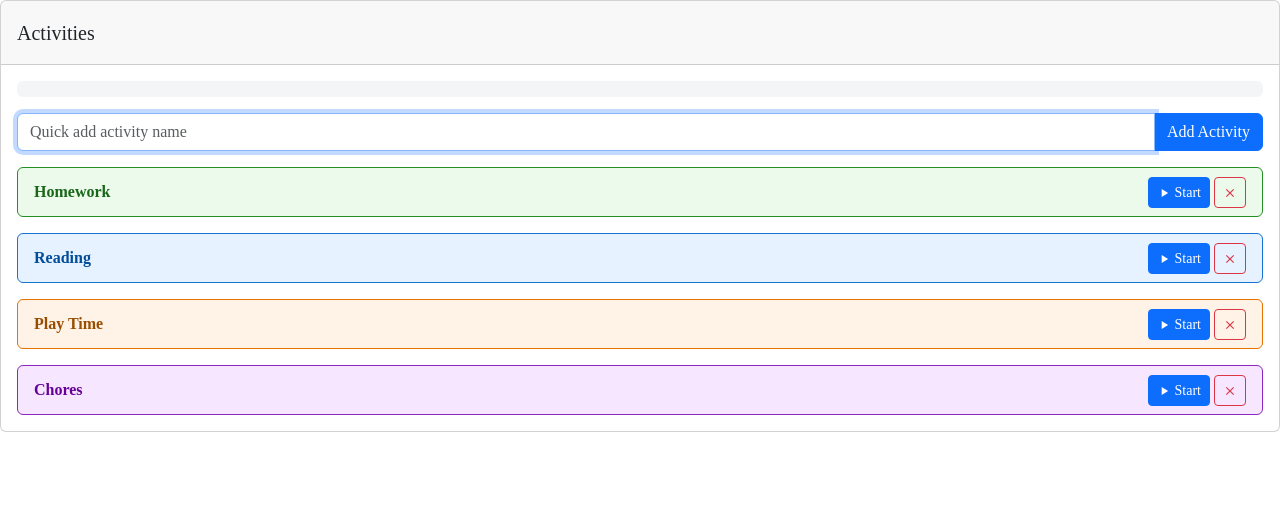
Test: ActivityManager Bootstrap Integration › Bootstrap Full-Width Layout › maintains Bootstrap structure during activity interactions
The width and height of the screenshot is (1280, 515).
Expected: the heading "Homework" is shown, left=34, top=183, right=110, bottom=200
Add a new activity
In the field labelled "activity name": [586, 132] box left=17, top=113, right=1155, bottom=151, type "Test Activity"
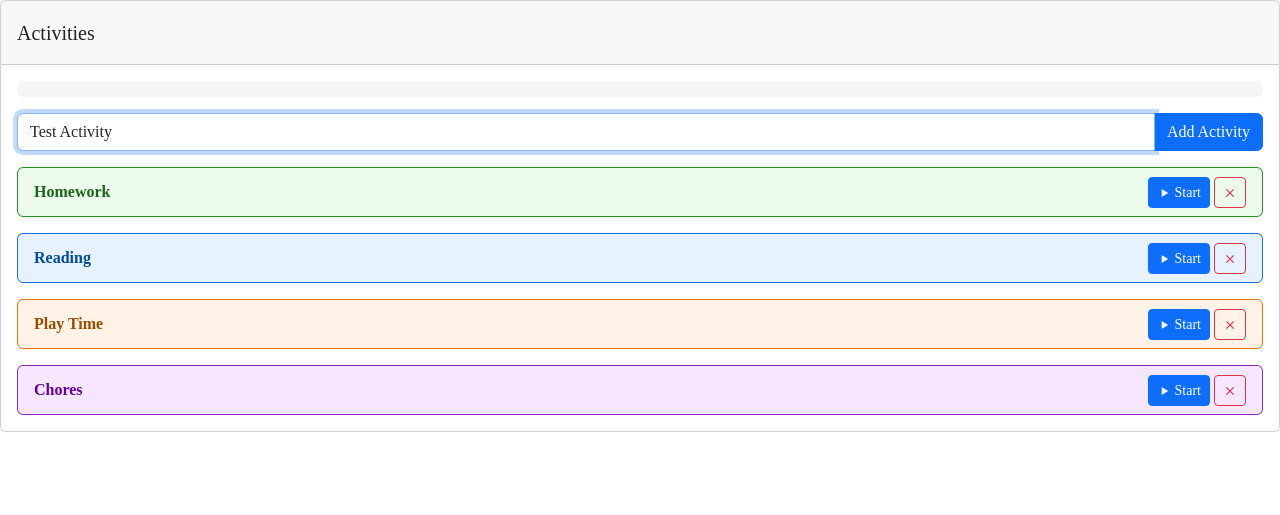
Click the button "Add Activity": [1208, 132] box left=1154, top=113, right=1263, bottom=151
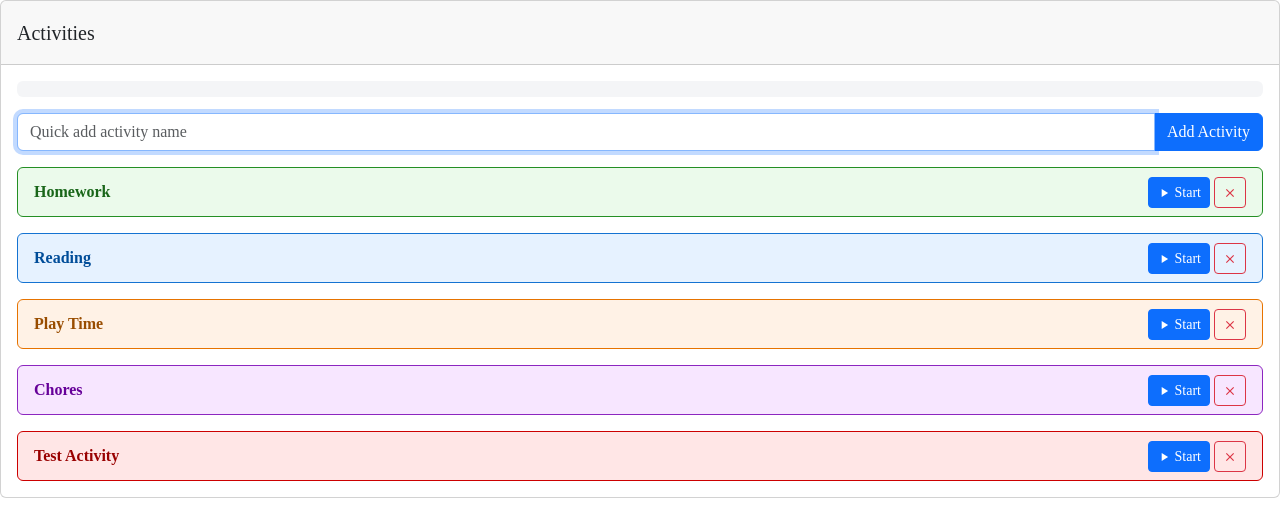
Expected: the heading "Test Activity" is shown, left=34, top=447, right=119, bottom=464
